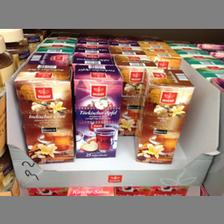Tee: (12, 62, 74, 166), (132, 68, 192, 164), (72, 62, 120, 158)
